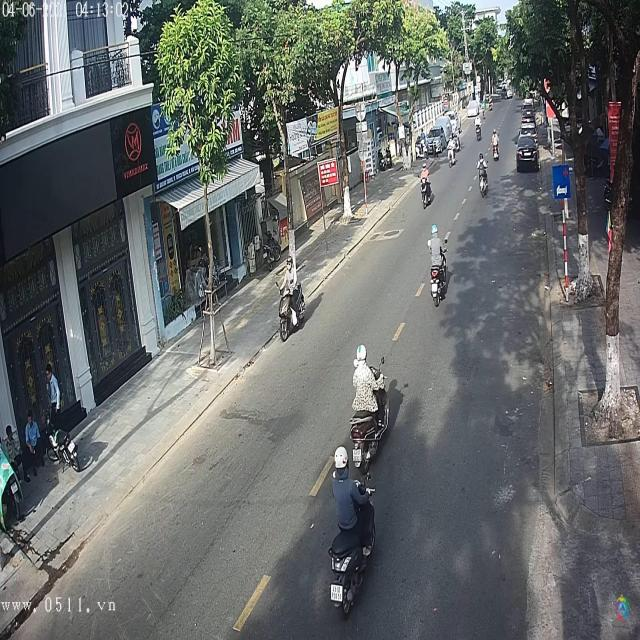car: (515, 129, 542, 170)
motorcycle: (325, 476, 383, 622), (349, 362, 394, 477), (278, 282, 308, 345), (429, 262, 448, 306), (421, 180, 436, 208)
